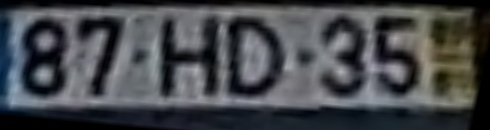3: (318, 13, 372, 105)
5: (373, 14, 426, 102)
7: (74, 16, 131, 103)
8: (17, 15, 73, 104)
D: (224, 15, 291, 102)
H: (157, 15, 223, 101)
